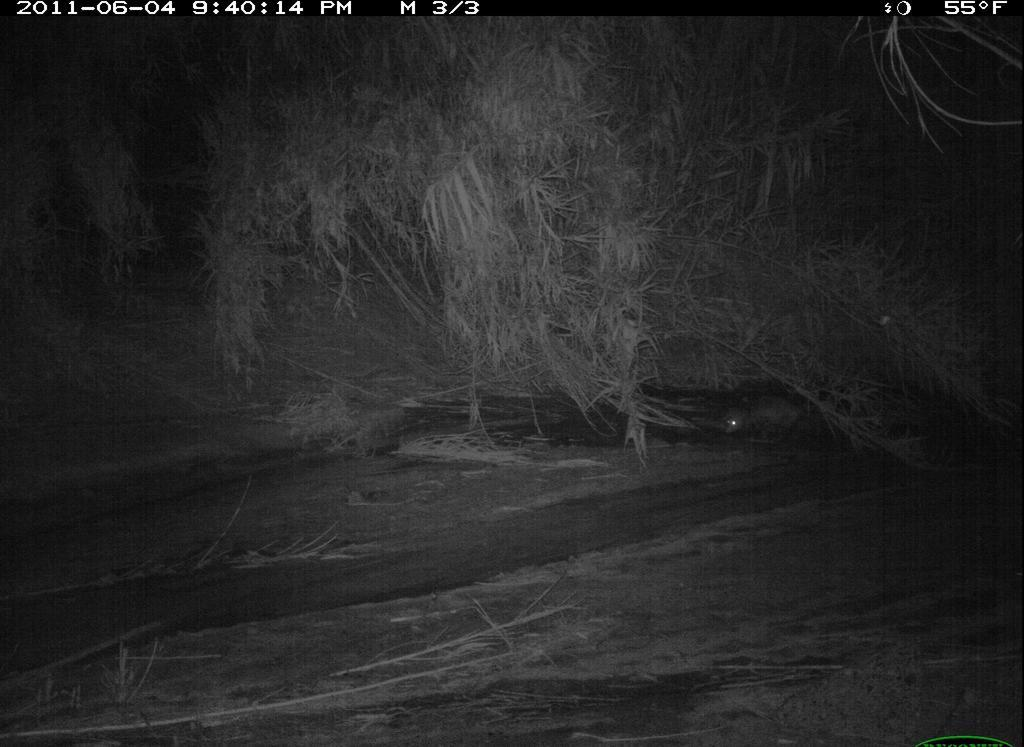opossum: (699, 378, 827, 454)
